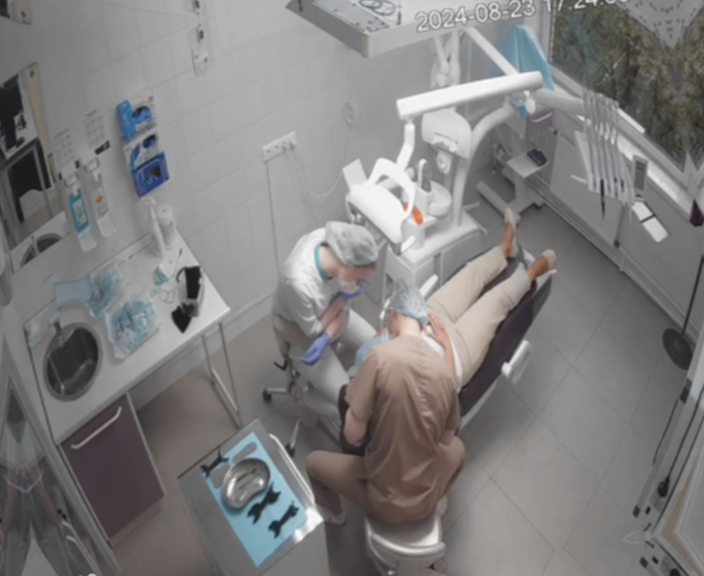Patient: (308, 203, 582, 472)
